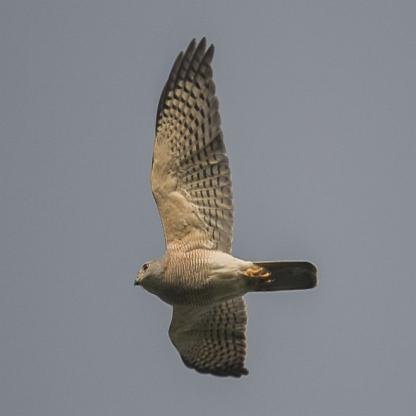Burung: (133, 35, 318, 377)
